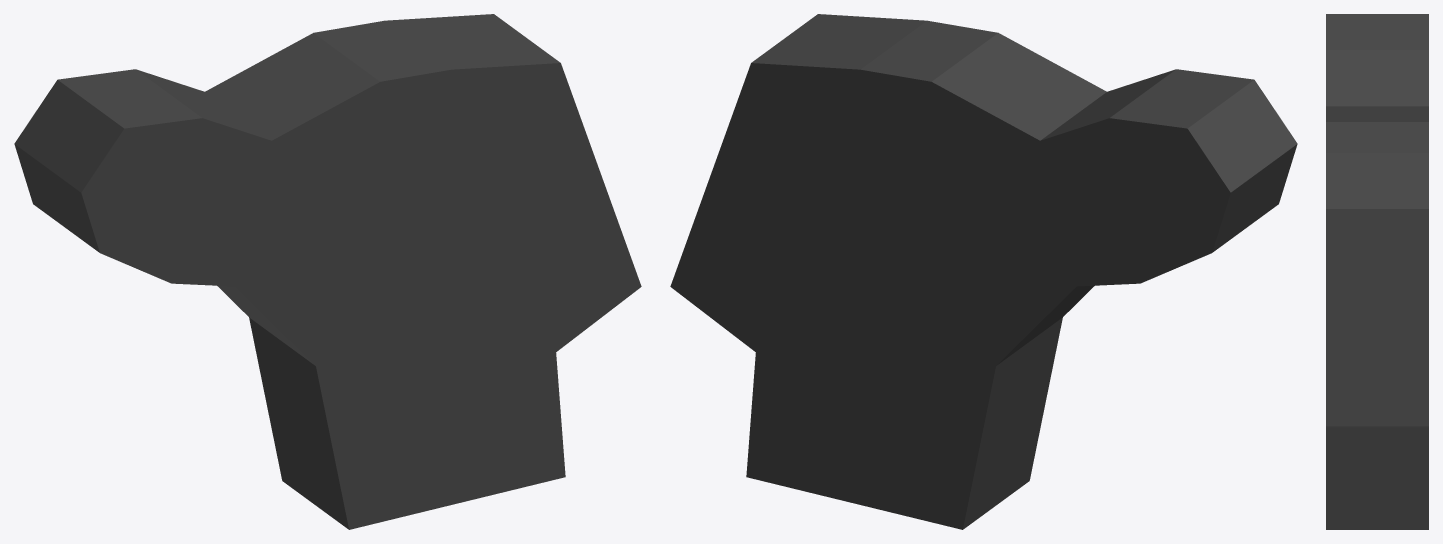
The model's file is Pistol2_01_4.fbx.
The picture shows the model from 3 angles, left to right: view 1: azimuth 30°, elevation 25°; view 2: azimuth 150°, elevation 25°; view 3: azimuth 270°, elevation 25°; orthographic projection. The views are drawn at different scales.
Parts seen in each view (by area): view 1: Pistol2_01_4; view 2: Pistol2_01_4; view 3: Pistol2_01_4.
Boxes of the visible parts, left/top/right/bottom form: Pistol2_01_4: left=14, top=14, right=641, bottom=529; Pistol2_01_4: left=670, top=14, right=1297, bottom=529; Pistol2_01_4: left=1326, top=14, right=1428, bottom=529.
Bounding box in the file's own units: 0.0329 × 0.0256 × 0.00681.
